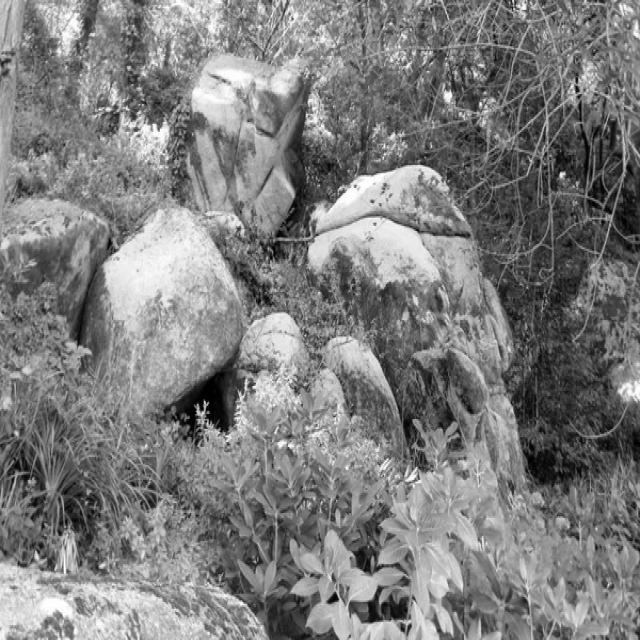Stone: (308, 174, 527, 486), (81, 210, 242, 408), (187, 54, 310, 237), (0, 565, 267, 640), (1, 198, 108, 332), (239, 314, 307, 371)
